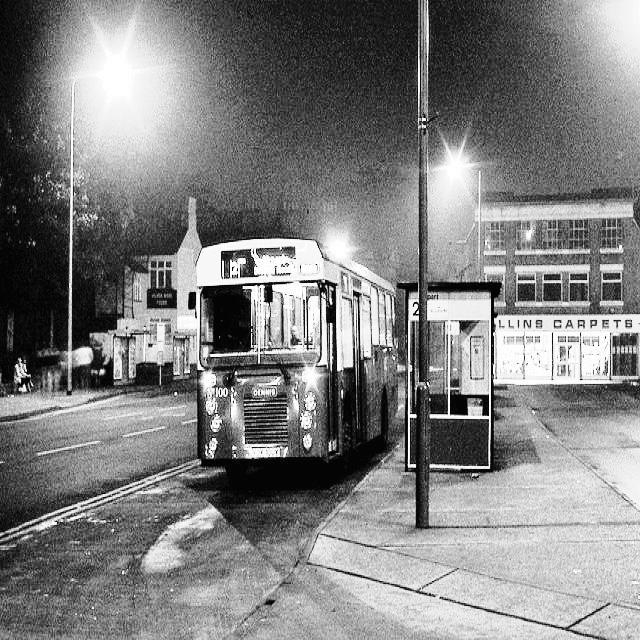Bus: (183, 218, 412, 493)
